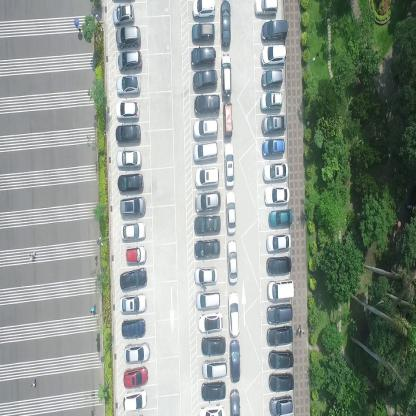car: (119, 267, 148, 293), (118, 292, 146, 315), (228, 292, 241, 340), (119, 196, 146, 219), (192, 142, 218, 165), (192, 119, 219, 141), (267, 279, 294, 301), (195, 191, 222, 213), (220, 0, 232, 48), (117, 49, 142, 72), (116, 26, 142, 48), (116, 149, 142, 171), (123, 343, 149, 365), (197, 312, 223, 334), (201, 359, 227, 381), (267, 326, 293, 348), (116, 173, 143, 194), (124, 365, 148, 388), (193, 70, 218, 92), (120, 318, 145, 340), (195, 290, 220, 312), (266, 233, 292, 254), (267, 304, 293, 325), (194, 216, 222, 235), (112, 3, 135, 26), (201, 335, 225, 357), (123, 390, 147, 412), (269, 394, 293, 416), (115, 100, 140, 121), (120, 222, 145, 243), (262, 45, 287, 66), (195, 167, 220, 188), (194, 95, 220, 115), (191, 48, 217, 68), (262, 22, 288, 42), (115, 124, 141, 144), (266, 255, 292, 275), (268, 350, 294, 370), (194, 240, 220, 260), (221, 51, 232, 98), (264, 187, 291, 206), (263, 164, 290, 183), (202, 381, 226, 402), (116, 75, 141, 95), (223, 142, 234, 187), (226, 192, 237, 236), (262, 138, 286, 158), (194, 266, 218, 286), (269, 372, 294, 391), (192, 0, 217, 19), (192, 23, 215, 43), (228, 240, 238, 286), (262, 115, 286, 134), (268, 210, 293, 228), (230, 340, 240, 385), (260, 92, 284, 110), (125, 244, 146, 264), (254, 0, 278, 17), (262, 70, 284, 88), (223, 102, 233, 140), (198, 403, 226, 415), (230, 387, 240, 415)
